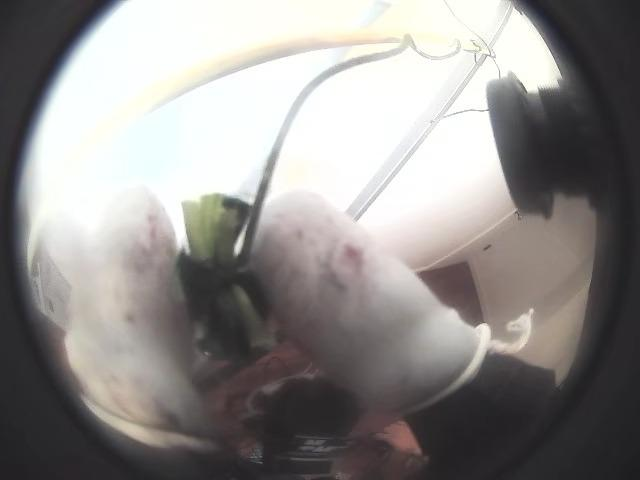berry: (180, 193, 269, 357)
gripper: (251, 190, 492, 412), (64, 186, 212, 447)
lense: (453, 0, 639, 479), (0, 0, 149, 479)
